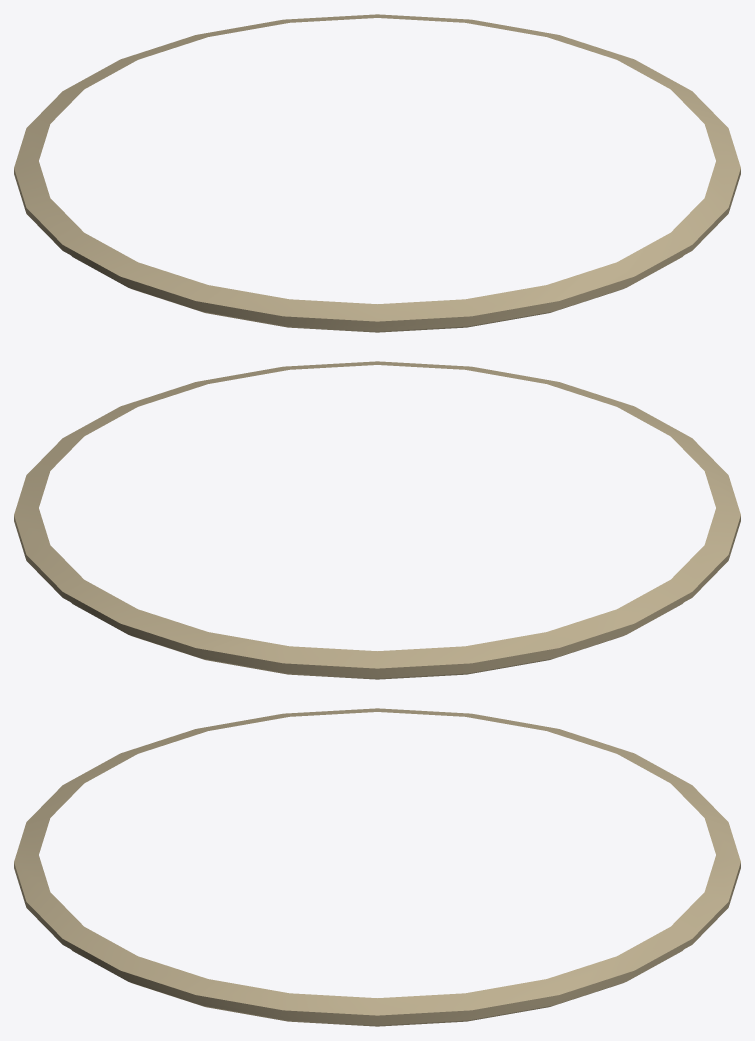
The model's file is dome.trim_top.plaster.glb.
3 renders of one model, top to bottom at view 1: azimuth 30°, elevation 25°; view 2: azimuth 150°, elevation 25°; view 3: azimuth 270°, elevation 25°, orthographic.
Visible parts, largest first — view 1: dome_trim_top_plaster; view 2: dome_trim_top_plaster; view 3: dome_trim_top_plaster.
Boxes of the visible parts, x1=… form: dome_trim_top_plaster: x1=14, y1=14, x2=740, y2=332; dome_trim_top_plaster: x1=14, y1=361, x2=740, y2=679; dome_trim_top_plaster: x1=14, y1=708, x2=740, y2=1026.
Size of what is drawn, in the model's own units: 7.6 by 0.3 by 7.6.
